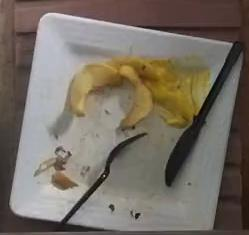fries: (71, 58, 152, 128)
